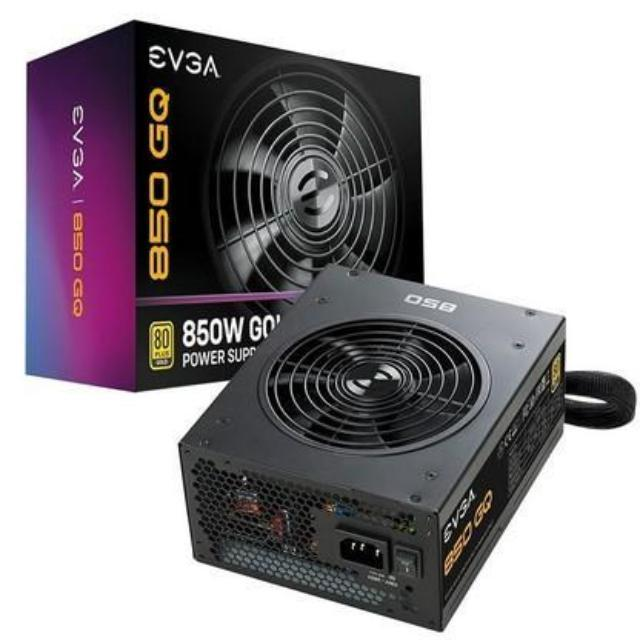PSU: (167, 258, 576, 633)
